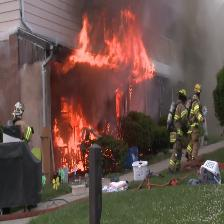fire: (48, 12, 159, 185)
smoke: (76, 0, 224, 61)
